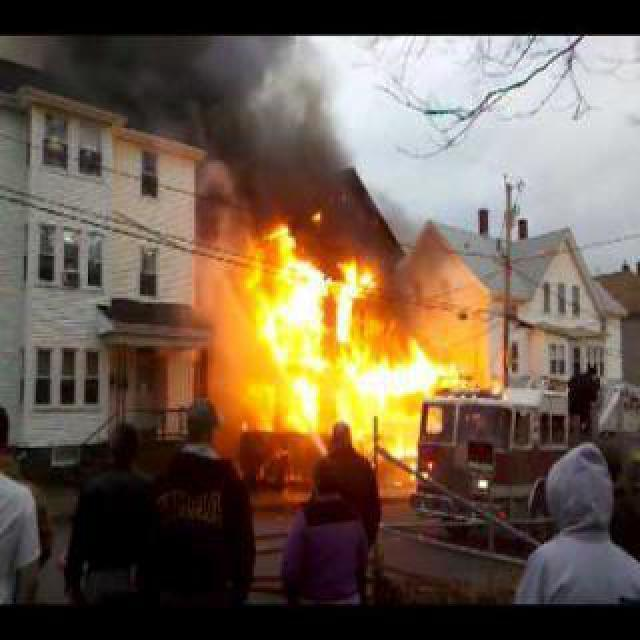Fire: (258, 234, 422, 426), (420, 340, 472, 380)
Smoke: (196, 36, 344, 234), (32, 38, 194, 136), (192, 224, 260, 358)
